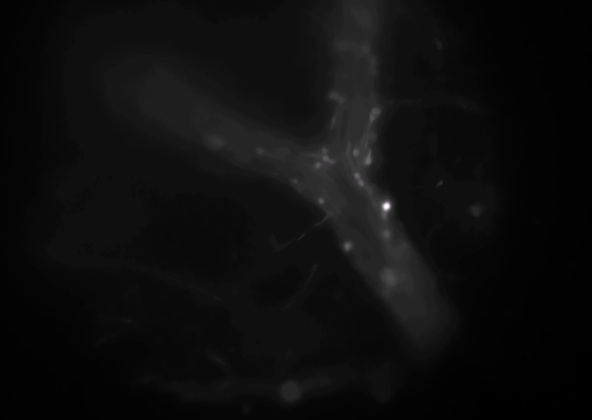cell: (379, 200, 393, 214), (369, 105, 383, 119), (349, 145, 363, 159), (361, 154, 375, 168), (317, 142, 331, 156), (310, 158, 324, 172), (325, 154, 339, 168), (327, 89, 341, 103), (350, 169, 364, 183), (334, 90, 348, 104), (353, 176, 367, 190), (340, 240, 354, 254), (382, 271, 396, 285), (379, 227, 393, 241), (379, 199, 393, 213), (376, 207, 390, 221), (378, 200, 392, 214), (312, 195, 326, 209), (287, 175, 301, 189), (252, 144, 266, 158), (207, 134, 221, 148), (358, 43, 372, 57), (366, 54, 380, 68), (333, 38, 347, 52), (319, 152, 333, 166), (367, 129, 381, 143)
